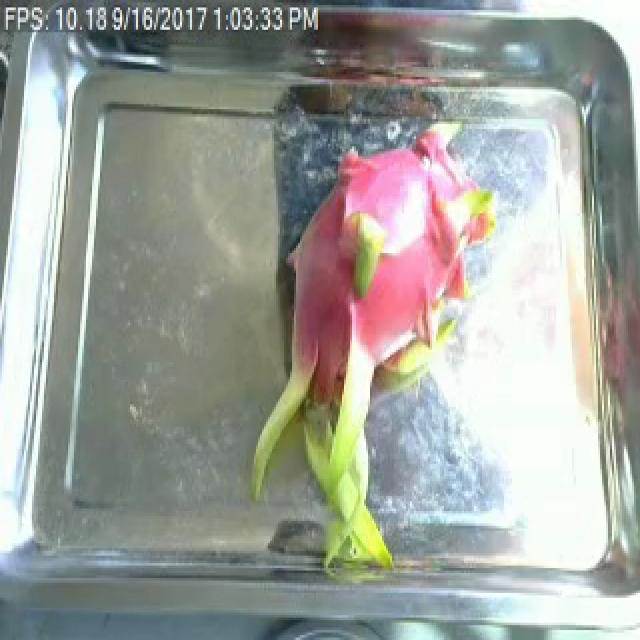fruit: (228, 137, 492, 566)
